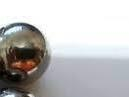ironball: (0, 17, 52, 88), (0, 85, 45, 96)
